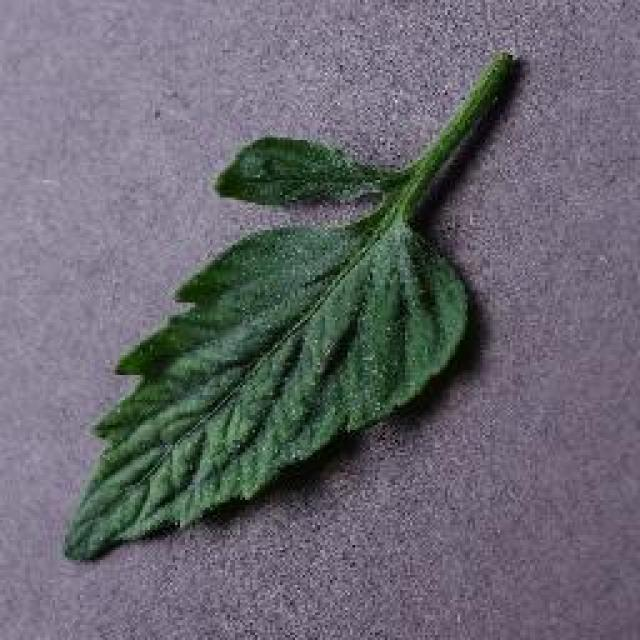Tomato___Tomato_mosaic_virus: (65, 55, 510, 558)
